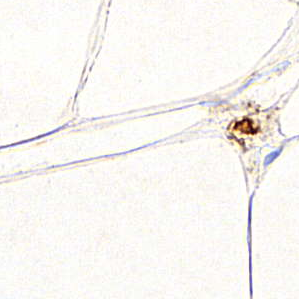Lymphocyte: (231, 113, 261, 135)
